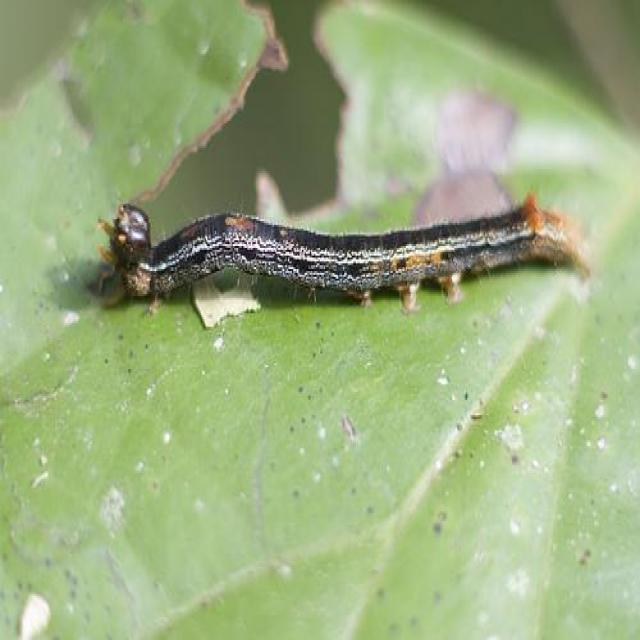armyworm: (96, 185, 590, 316)
